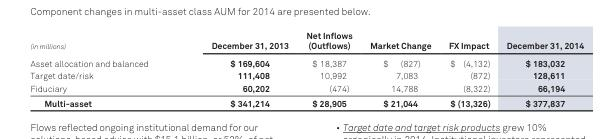table: (29, 29, 583, 108)
table column: (29, 29, 179, 108), (179, 29, 296, 108), (497, 29, 583, 108), (360, 29, 439, 108), (296, 29, 360, 108), (439, 29, 497, 108)
table column header: (29, 29, 583, 53)
table row: (29, 29, 583, 53), (29, 53, 583, 69), (29, 81, 583, 95), (29, 95, 583, 108), (29, 69, 583, 81)
